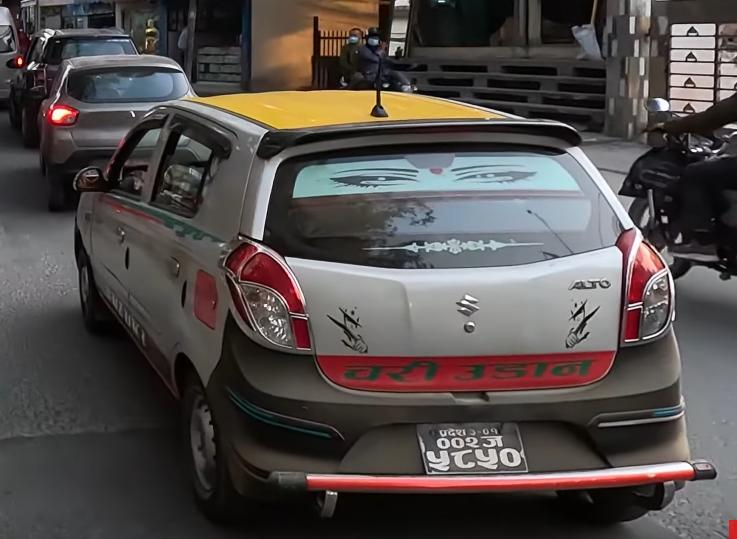bike: (613, 98, 737, 292)
car: (42, 56, 207, 192)
taxi: (61, 75, 718, 528)
